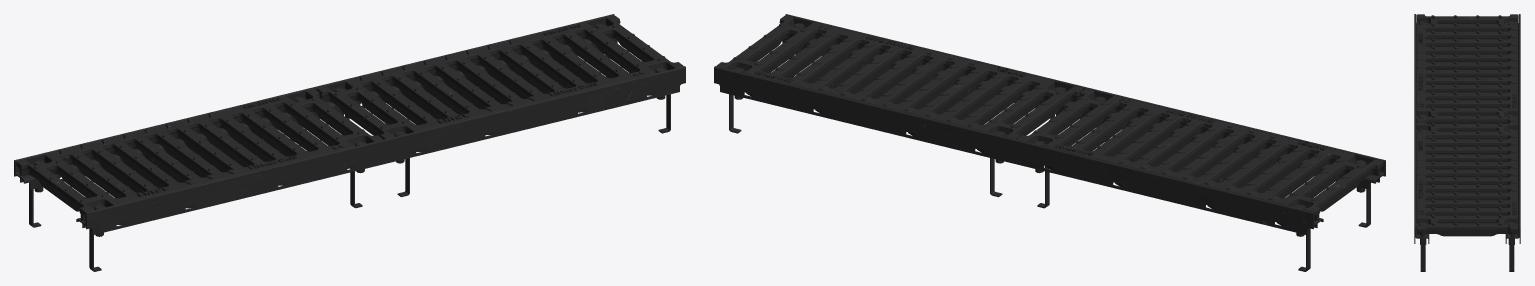
Rendered from 1000-x-150-d400-grating-and-ms-rail.glb.
3 renders of one model, left to right at view 1: azimuth 30°, elevation 25°; view 2: azimuth 150°, elevation 25°; view 3: azimuth 270°, elevation 25°, orthographic. The views are drawn at different scales.
Visible parts, largest first — view 1: NAUO2_high; view 2: NAUO2_high; view 3: NAUO2_high.
Part boxes in pixels (box(x1,y1,x2,y2)): NAUO2_high: box(14, 14, 685, 271); NAUO2_high: box(714, 14, 1385, 271); NAUO2_high: box(1414, 14, 1520, 271).
Bounding box in the file's own units: 0.999 × 0.1067 × 0.2096.
1 material, 1 textured.
